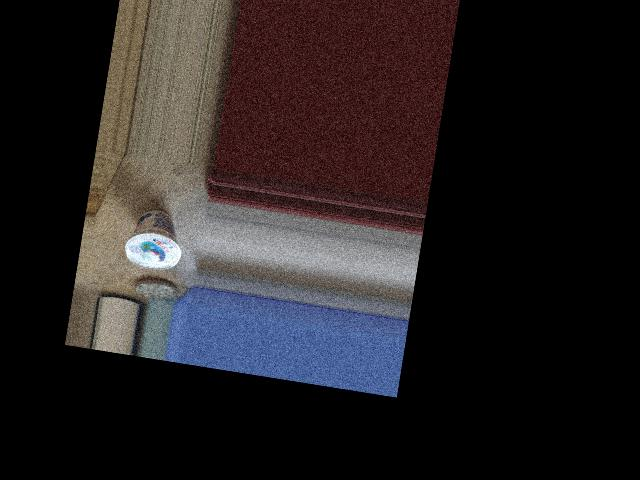cotage: (120, 196, 179, 274)
